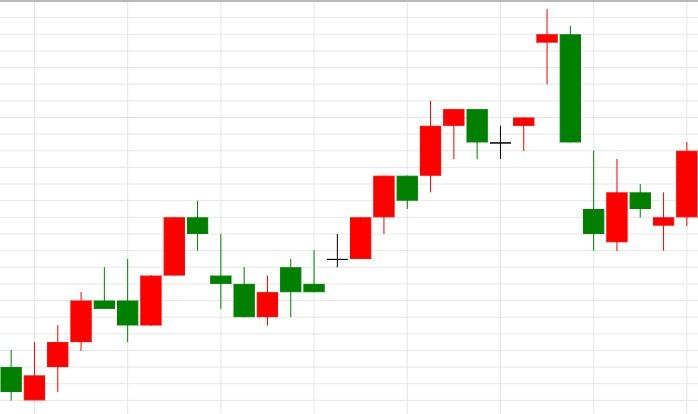bearish_engulfing_fall: (256, 101, 488, 325)
three_black_crows_fall: (23, 201, 256, 401)
